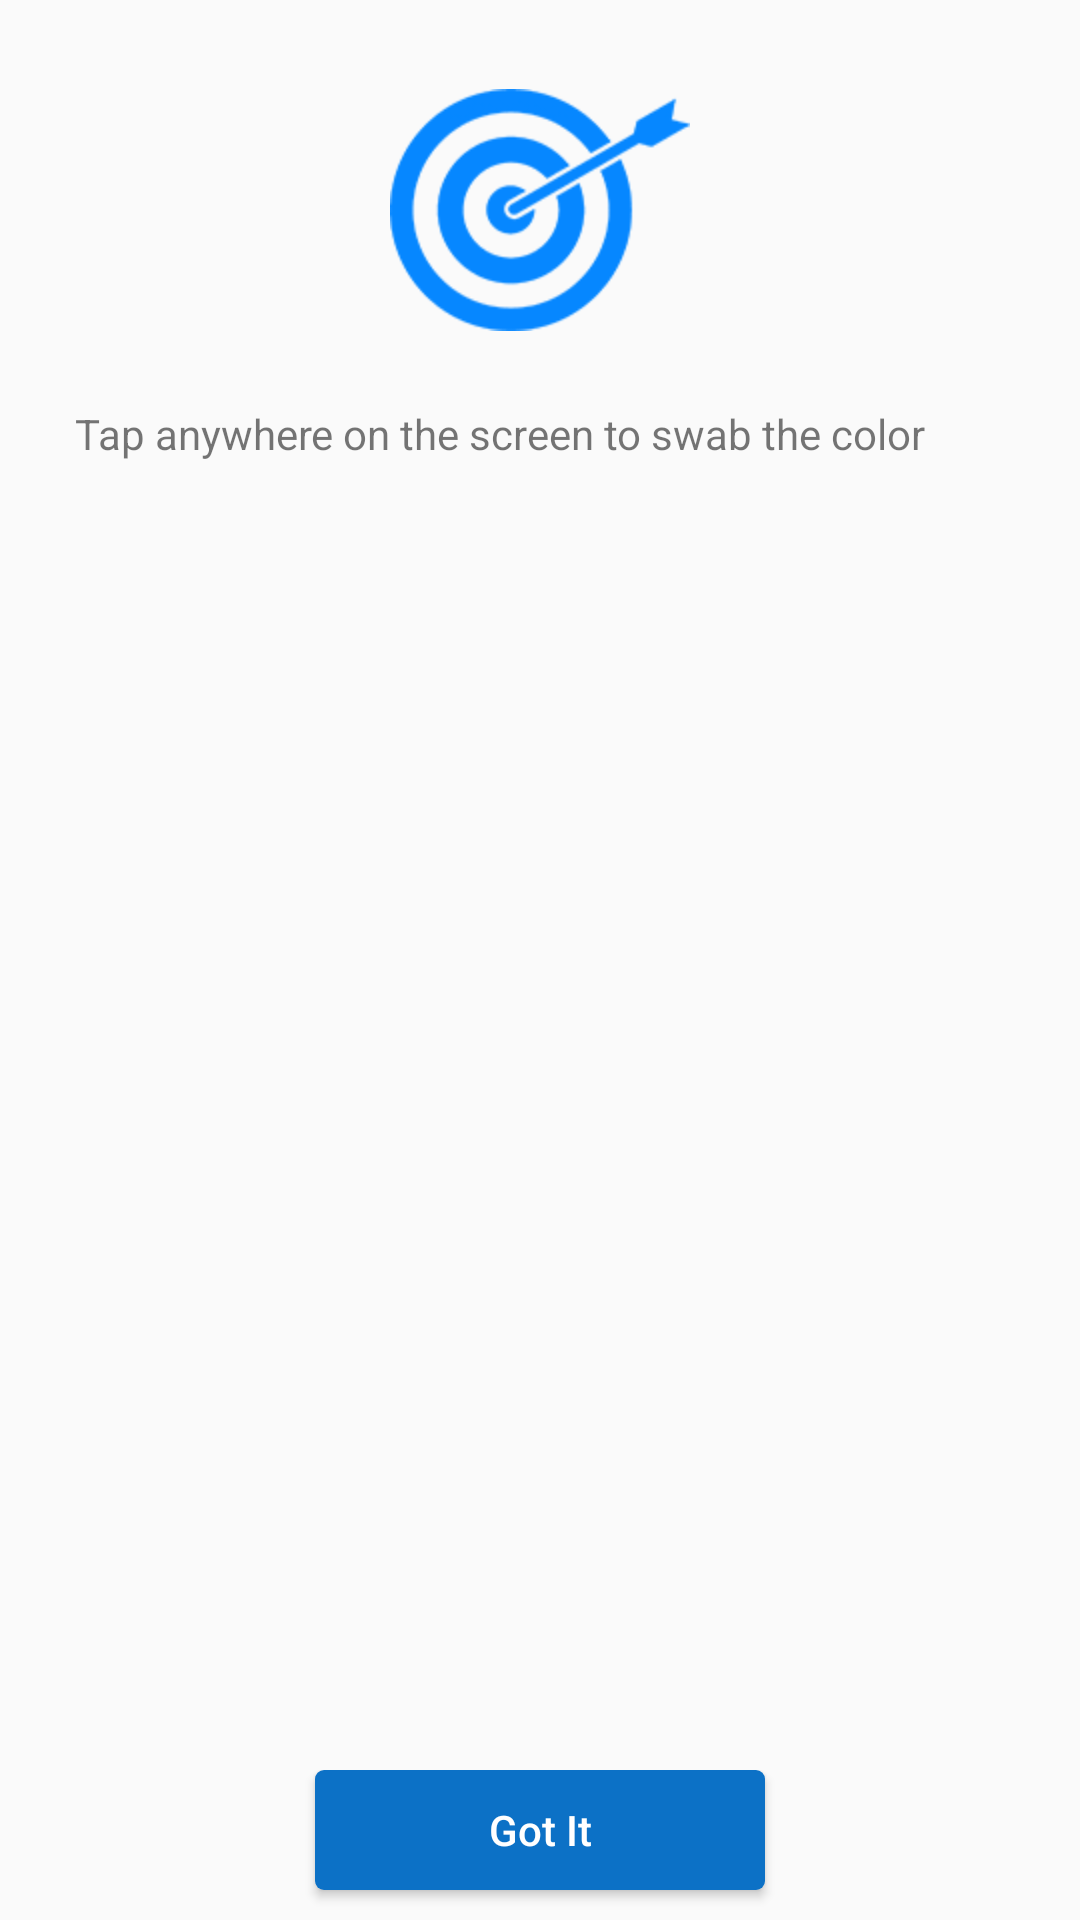

Locate icon controls on the screen. Image size 1080 x 1920, boxes as region(x1, y1, x2, y2).
target: region(390, 89, 690, 331)
